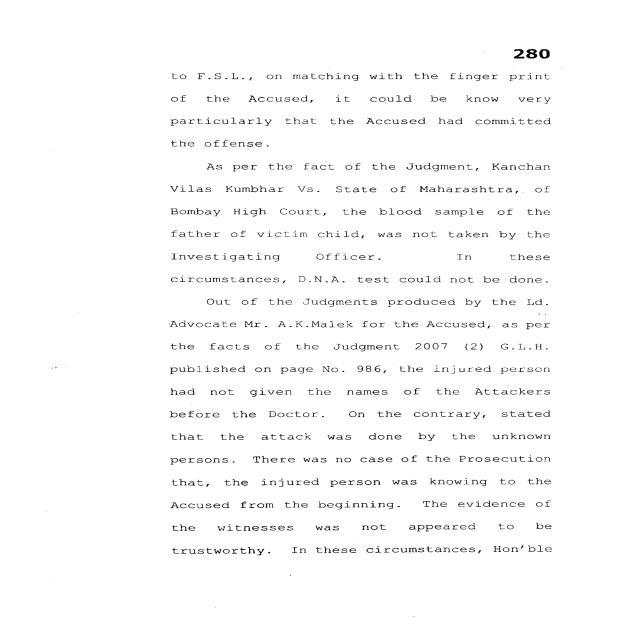page-number: (429, 1, 636, 66)
